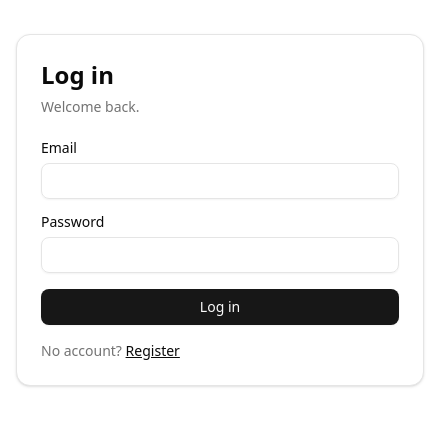
it: LoginPage › shows an error message and does not redirect on failure
Type "a@b.com" into the field labelled "Email" at [220, 181], box [41,163,399,199]
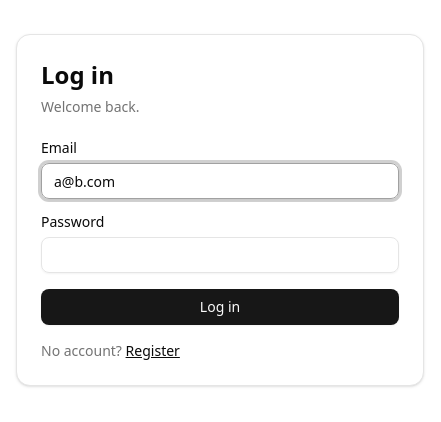
Type "wrong" into the password field labelled "Password" at [220, 255], box [41,237,399,273]
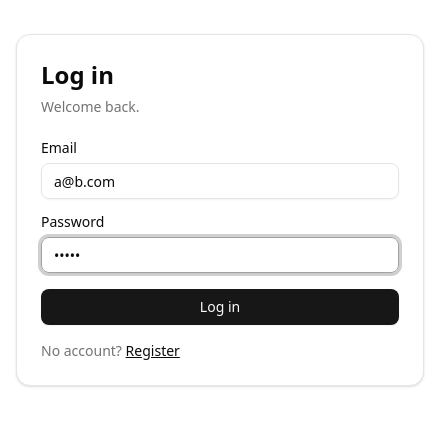
Click the button "Log in" at [220, 307], box [41,289,399,325]
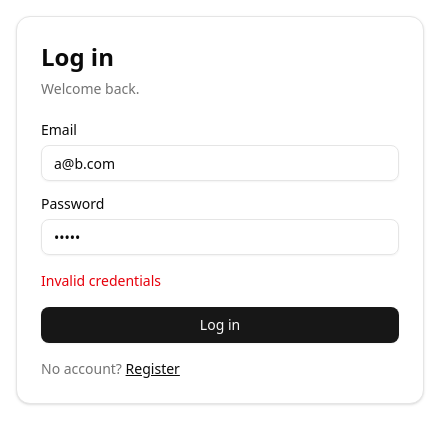
Check: the text "Invalid credentials" is shown, box [41,271,161,290]
